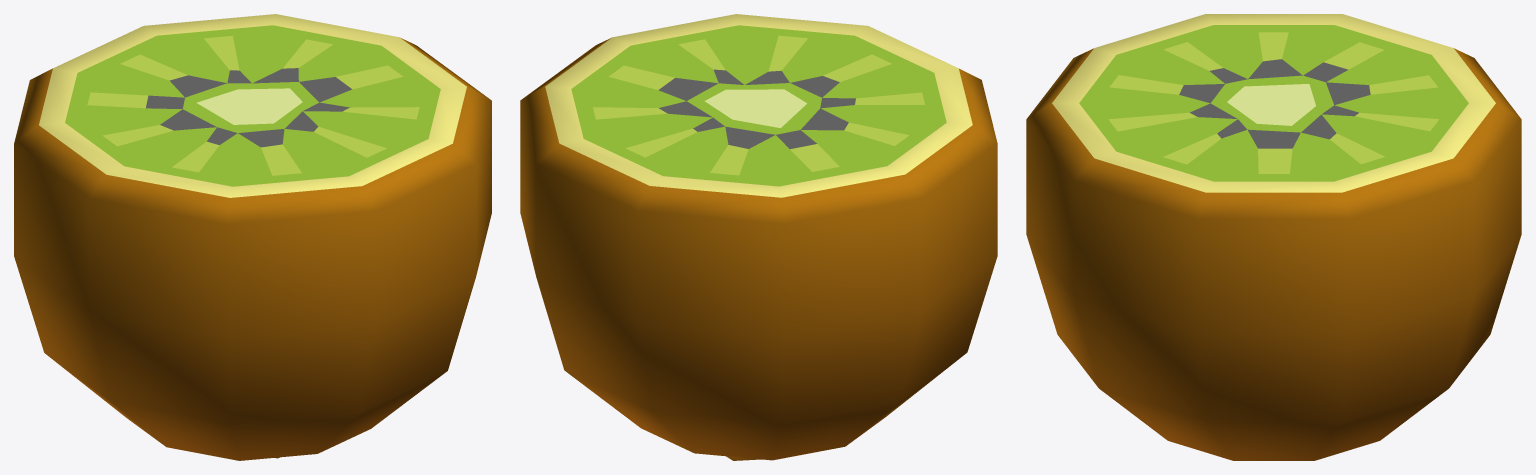
File: Kiwi.fbx
3 renders of one model, left to right at view 1: azimuth 30°, elevation 25°; view 2: azimuth 150°, elevation 25°; view 3: azimuth 270°, elevation 25°, orthographic.
Parts seen in each view (by area): view 1: Kiwi; view 2: Kiwi; view 3: Kiwi.
Part boxes in pixels (left/top/right/bottom): Kiwi: left=14, top=14, right=491, bottom=460; Kiwi: left=520, top=14, right=997, bottom=460; Kiwi: left=1026, top=14, right=1521, bottom=460.
Size of the model in its own units: 1.9 by 1.52 by 2.
